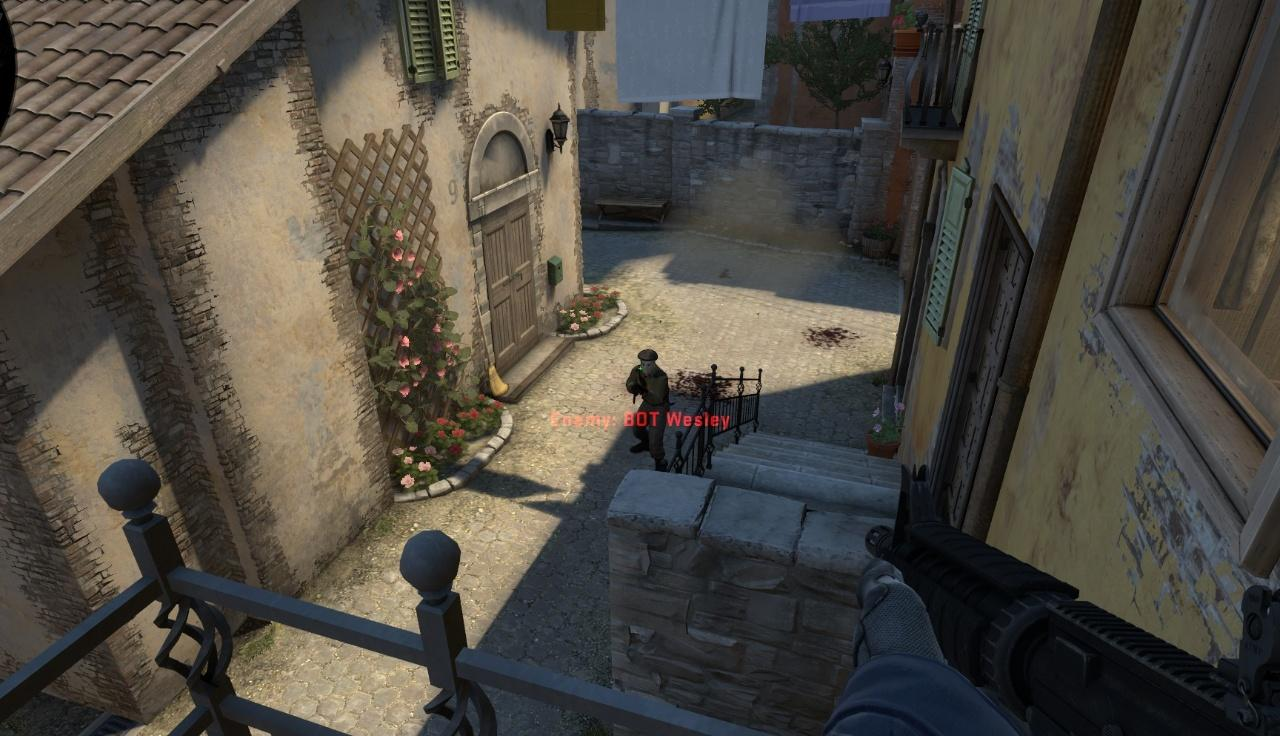rifle: (845, 462, 1280, 736)
tt: (629, 348, 668, 472)
tthead: (639, 348, 656, 373)
